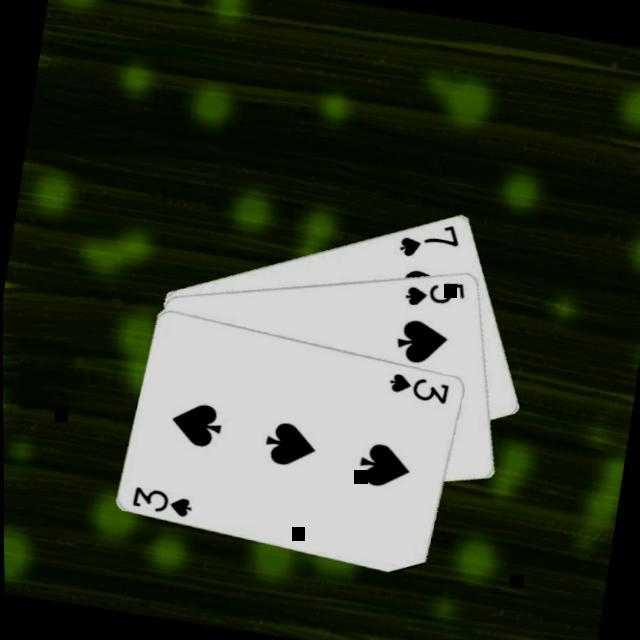3S: (383, 366, 451, 405), (126, 481, 196, 518)
5S: (399, 268, 468, 314)
7S: (394, 212, 462, 264)
